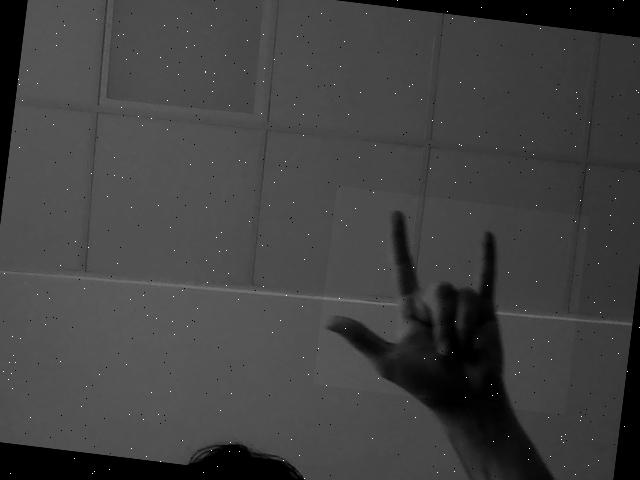I_Love_You: (312, 186, 588, 415)
